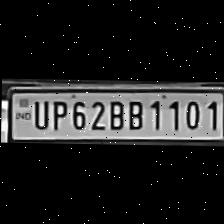0: (180, 97, 200, 130)
1: (145, 96, 163, 130), (162, 96, 180, 130), (202, 96, 220, 130)
2: (86, 96, 104, 131)
6: (66, 96, 86, 130)
B: (105, 96, 125, 130), (124, 96, 144, 130)
P: (47, 96, 67, 130)
U: (28, 97, 48, 130)
